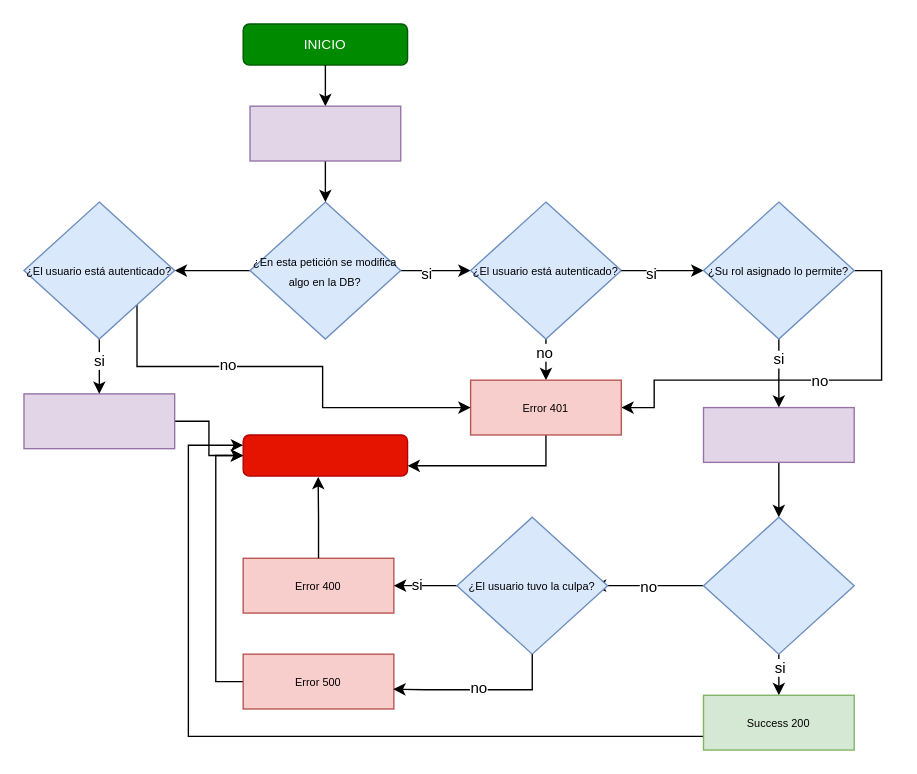
Image size: 917x774. Some labels were removed from this diagram. The centre of each missing label's shape, as x and y in pixels:
"El usuario hace una petición" belongs at (325,133).
"Enviamos petición al usuario" belongs at (99,421).
"FIN" belongs at (325,455).
"Se modifica la base de datos" belongs at (778,434).
"¿Fue exitoso?" belongs at (778,585).
